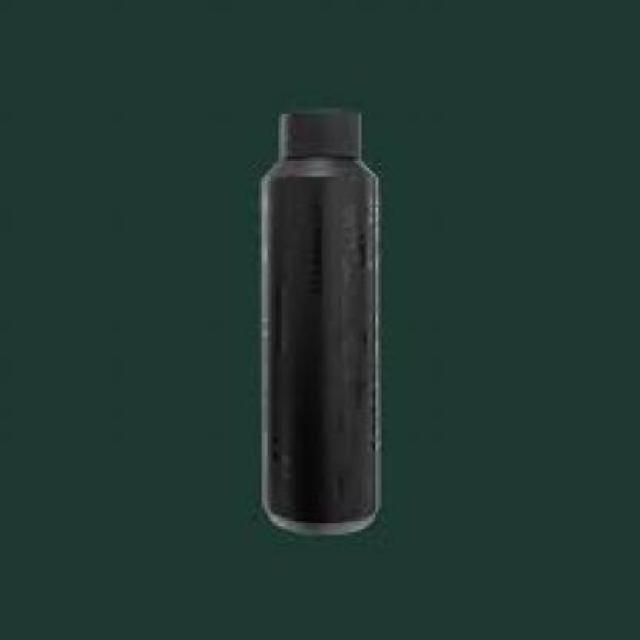Drinking: (222, 88, 409, 552)
